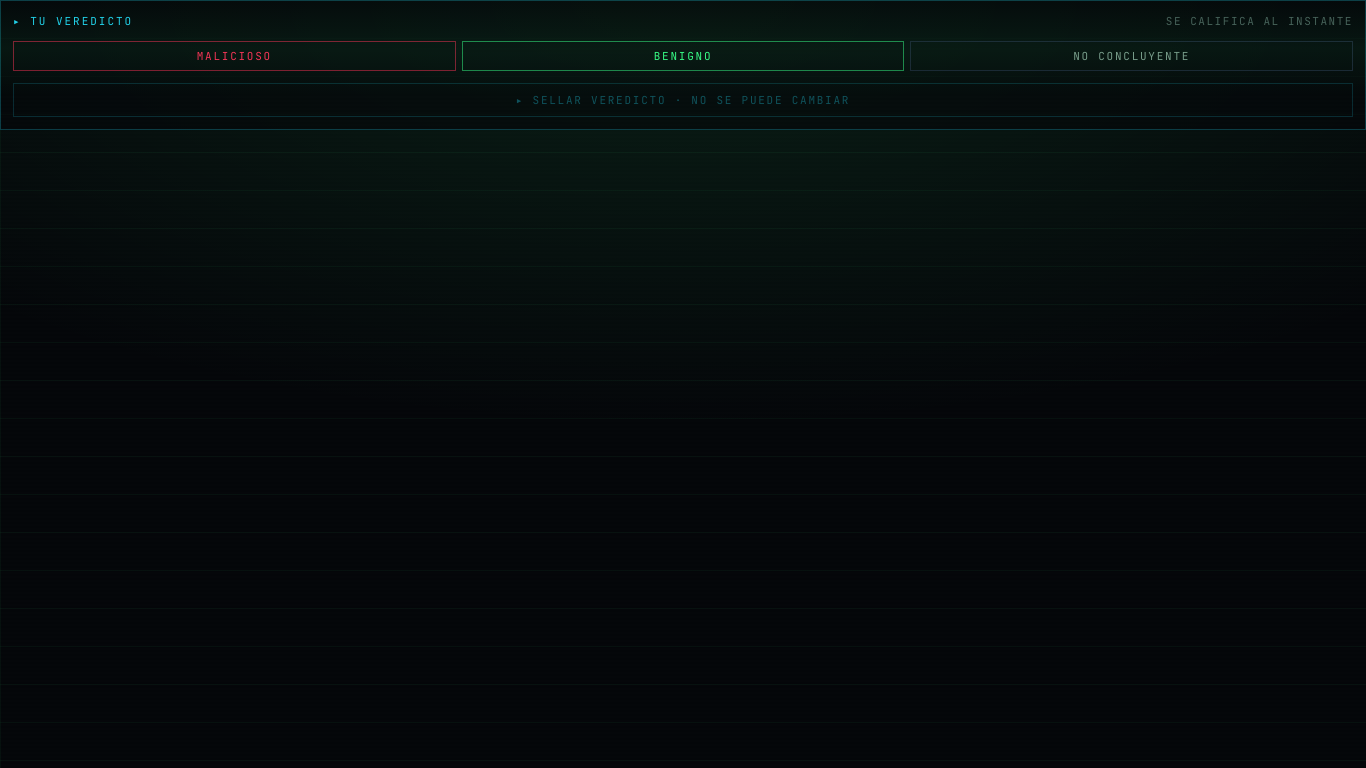
Test: VerdictPanel › exige fundamento desde el 80%
The image size is (1366, 768).
Click the radio button labelled "benigno".
click(683, 56)  # box x1=462 y1=41 x2=904 y2=71
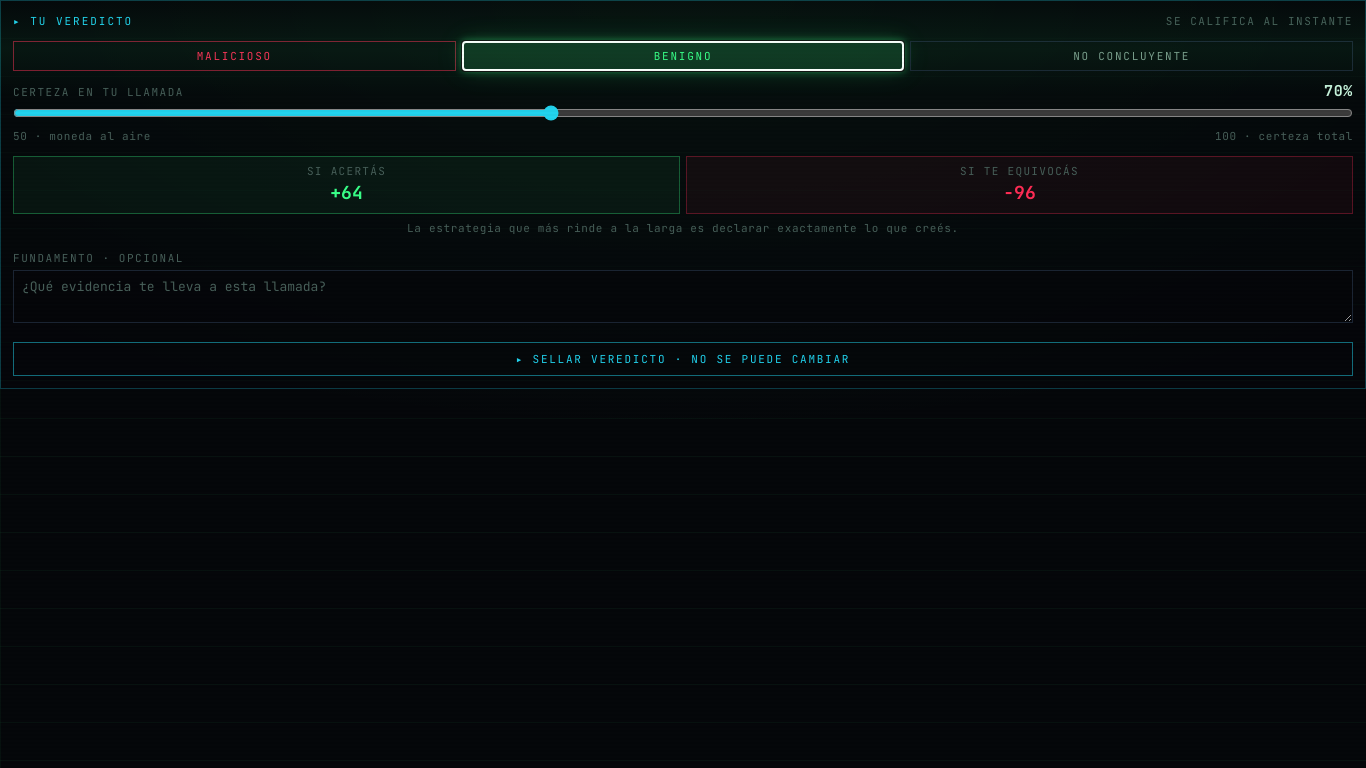
Set the slider to "80" at (815, 113), box x1=13 y1=105 x2=1353 y2=121
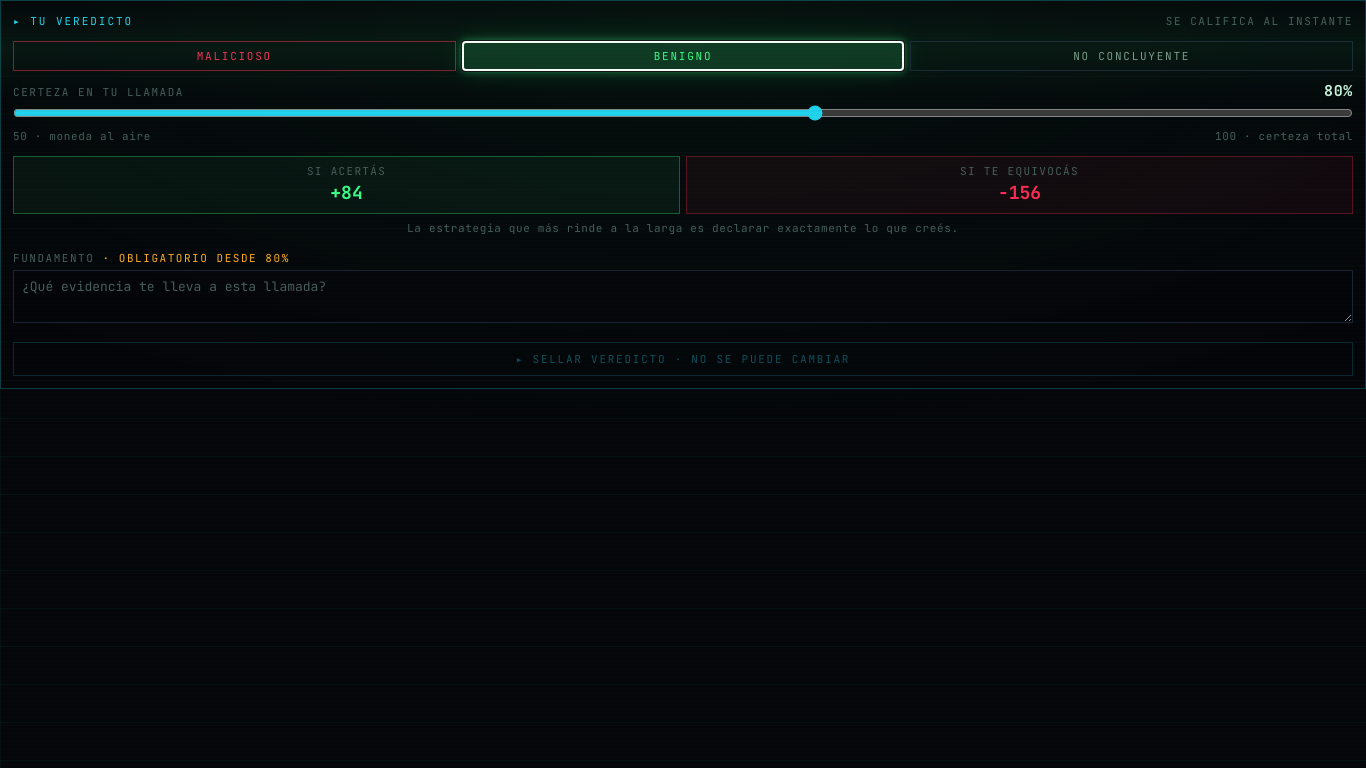
Expected: the button "▸ sellar veredicto · no se puede cambiar" is disabled, x1=13 y1=342 x2=1353 y2=376
Type "Aparece en el KEV de CISA." into the text box.
click(683, 296); type("Aparece en el KEV de CISA.")  # box x1=13 y1=270 x2=1353 y2=323
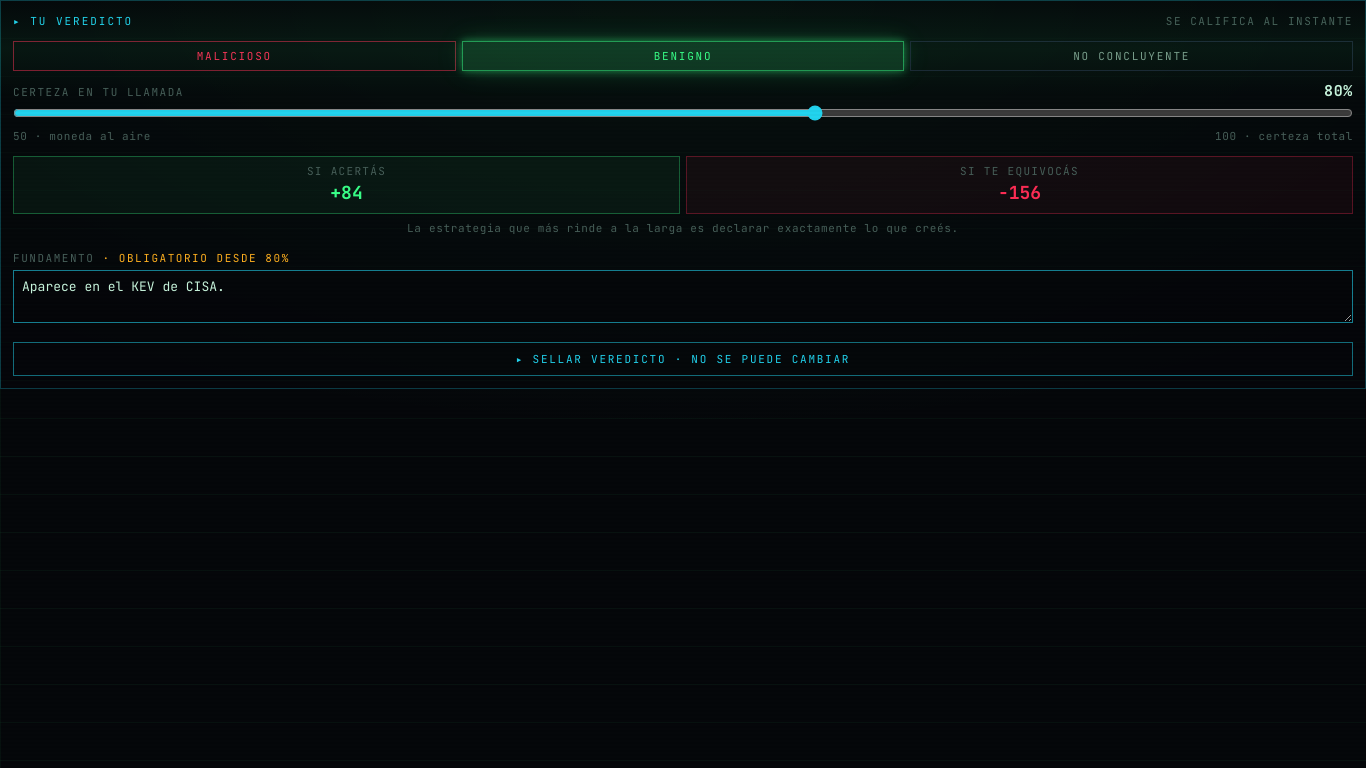
Expected: the button "▸ sellar veredicto · no se puede cambiar" is enabled, x1=13 y1=342 x2=1353 y2=376
